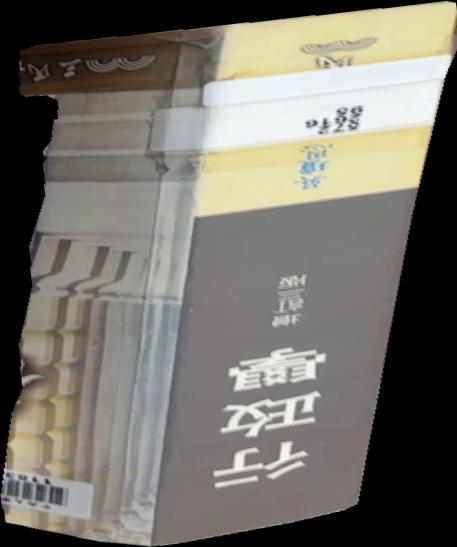reverse: (1, 1, 457, 547)
